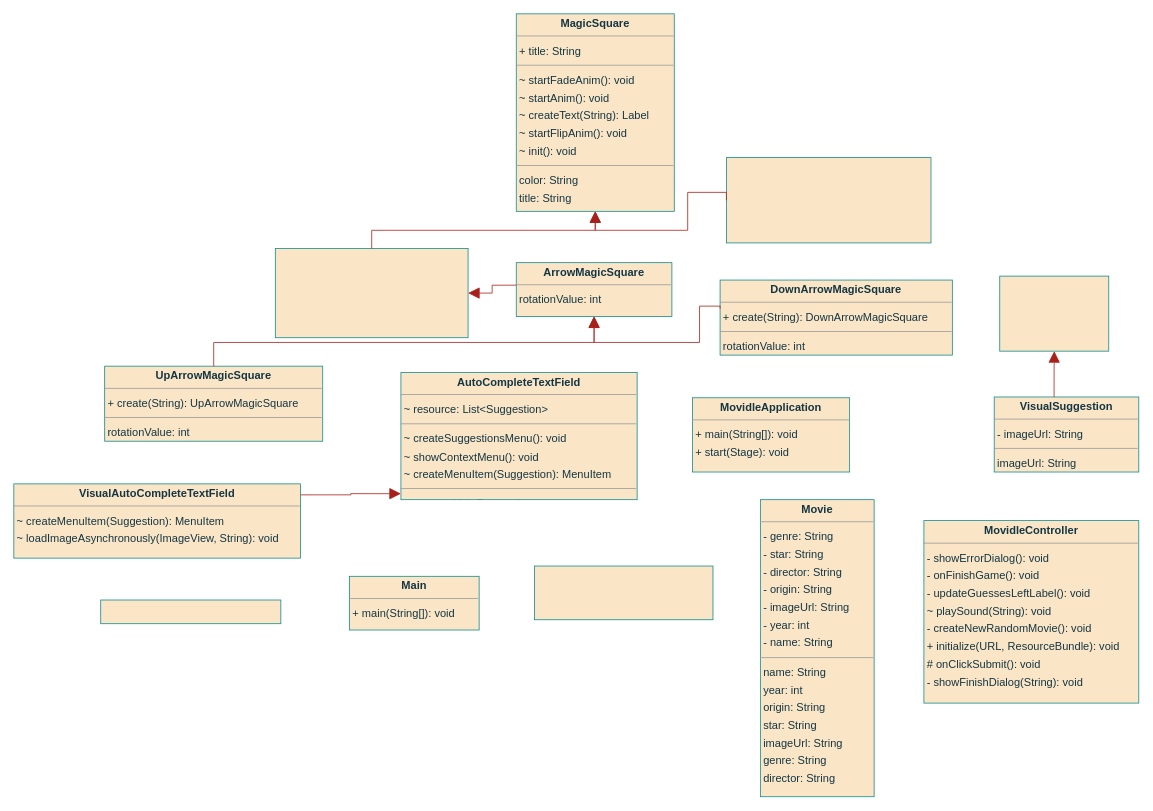
Image size: 1153x811. Some labels were removed from this diagram. The shapes that lost their labels are listed below. From the top down, each one's centre as x and y in pixels, then its label:
At (828,200): "GreenMagicSquare + create(String): GreenMagicSquare color: String".
At (371,293): "RedMagicSquare + create(String): RedMagicSquare color: String".
At (1054,313): "Suggestion - title: String title: String".
At (190,611): "MaxSizedContextMenu".
At (623,592): "RandomMovie + selectRandomMovie(): Movie".
